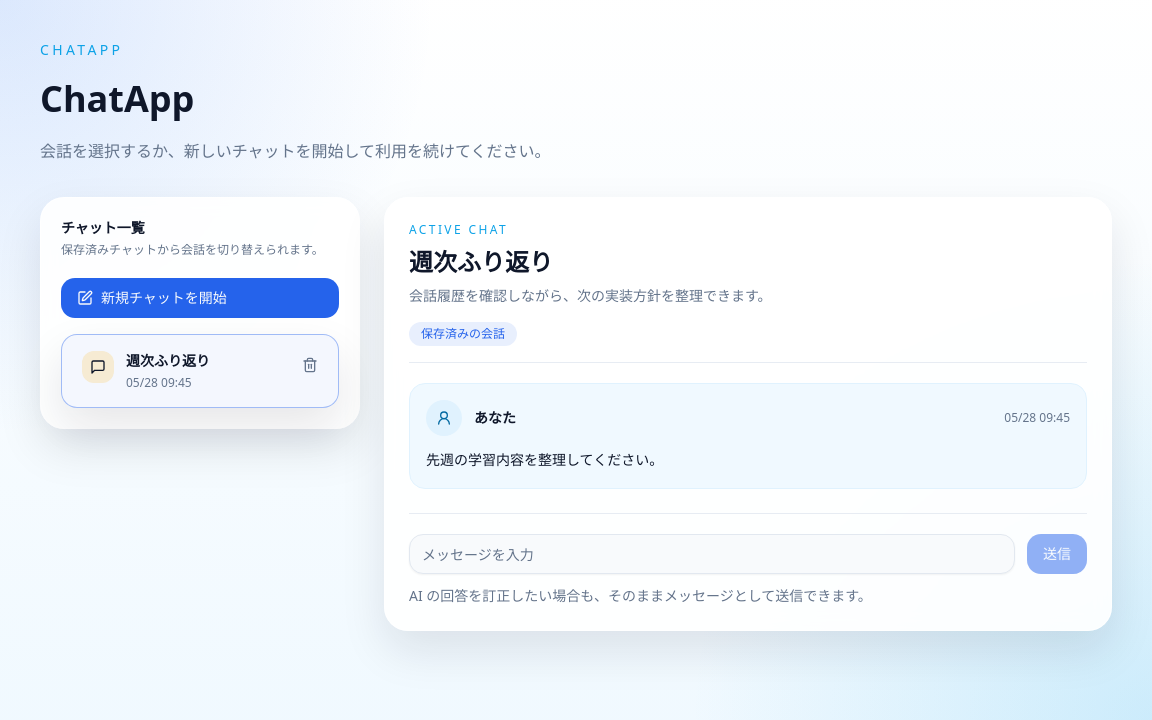
Test: TopRoute workspace behavior › appends a new user message, refreshes sidebar data, and shows pending state for an existing chat
Expected: the heading "週次ふり返り" is shown, [409,245,553,278]
Type "次の観点も追加してください。" into the field named "メッセージ入力".
click(712, 554); type("次の観点も追加してください。")  # box [409,534,1015,574]
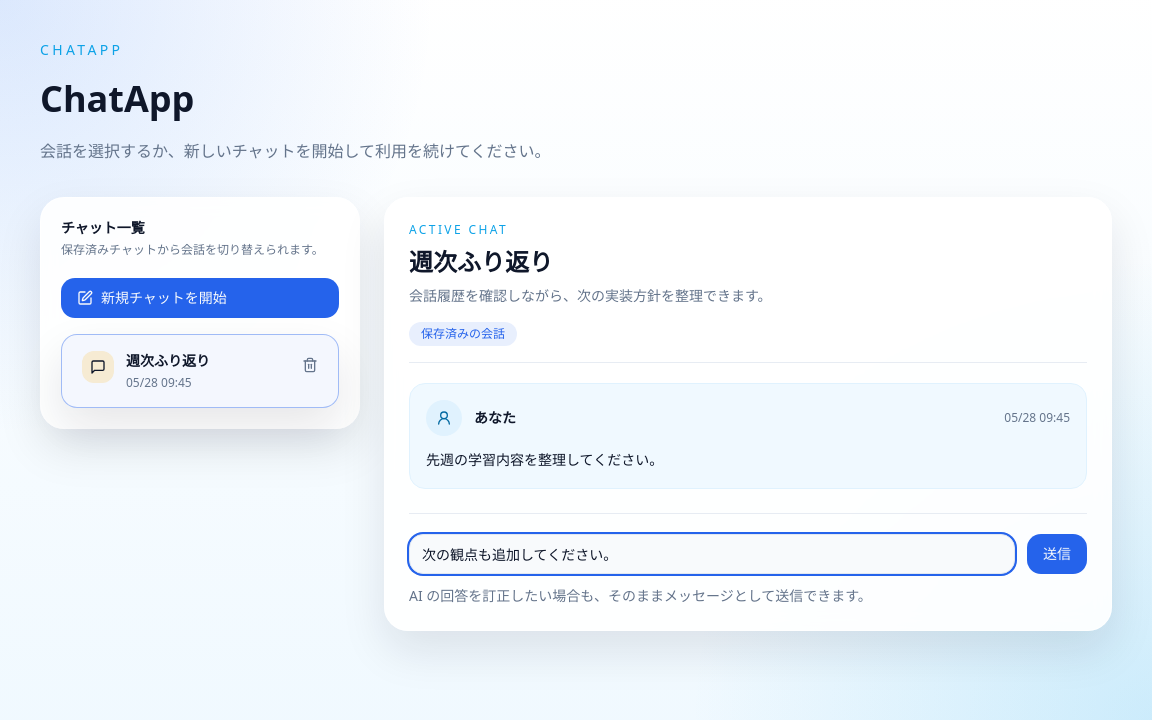
Click the button "送信".
click(1057, 554)  # box [1027,534,1087,574]
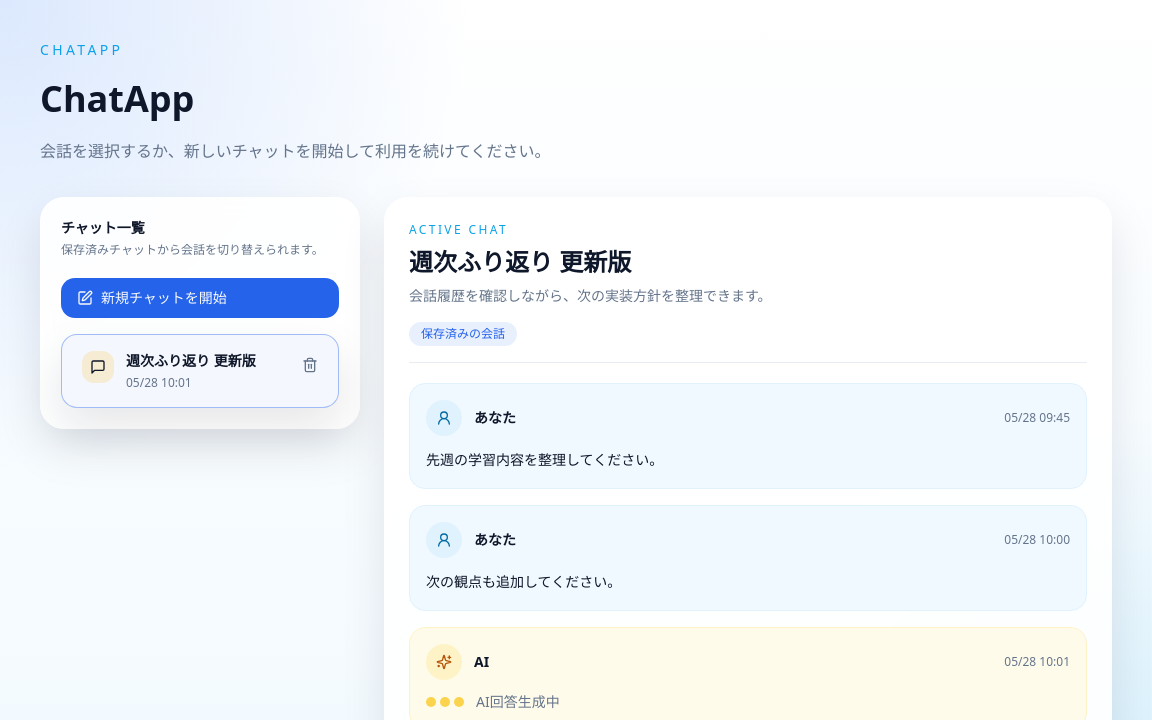
Expected: the heading "週次ふり返り 更新版" is shown, [409,245,631,278]
Expected: the text "次の観点も追加してください。" is shown, [426,572,621,591]
Expected: the text "AI回答生成中" is shown, [476,692,560,712]
